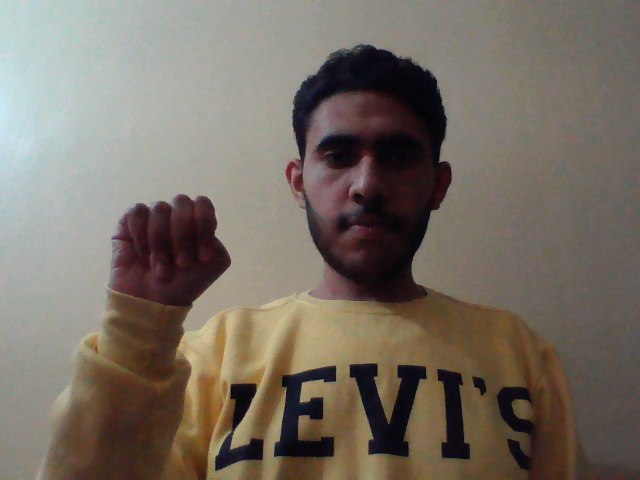M: (105, 191, 235, 318)
